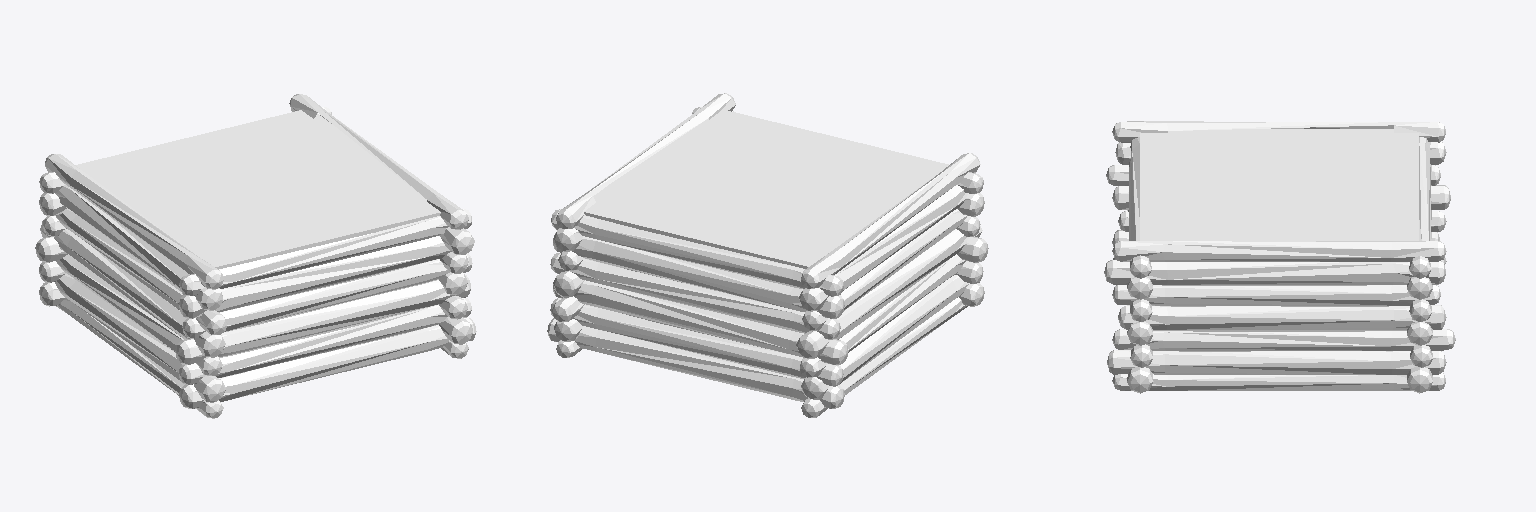
Rendered from Character.obj.
The picture shows the model from 3 angles: view 1: azimuth 30°, elevation 25°; view 2: azimuth 150°, elevation 25°; view 3: azimuth 270°, elevation 25°; orthographic projection.
Visible parts, largest first — view 1: SM_Bld_Base_01_Mesh; view 2: SM_Bld_Base_01_Mesh; view 3: SM_Bld_Base_01_Mesh.
Part boxes in pixels (x1,y1,x2,y2): SM_Bld_Base_01_Mesh: (35, 94, 476, 418); SM_Bld_Base_01_Mesh: (547, 93, 988, 417); SM_Bld_Base_01_Mesh: (1104, 121, 1455, 393).
Size of the model in its own units: 4.95 by 2.38 by 5.09.